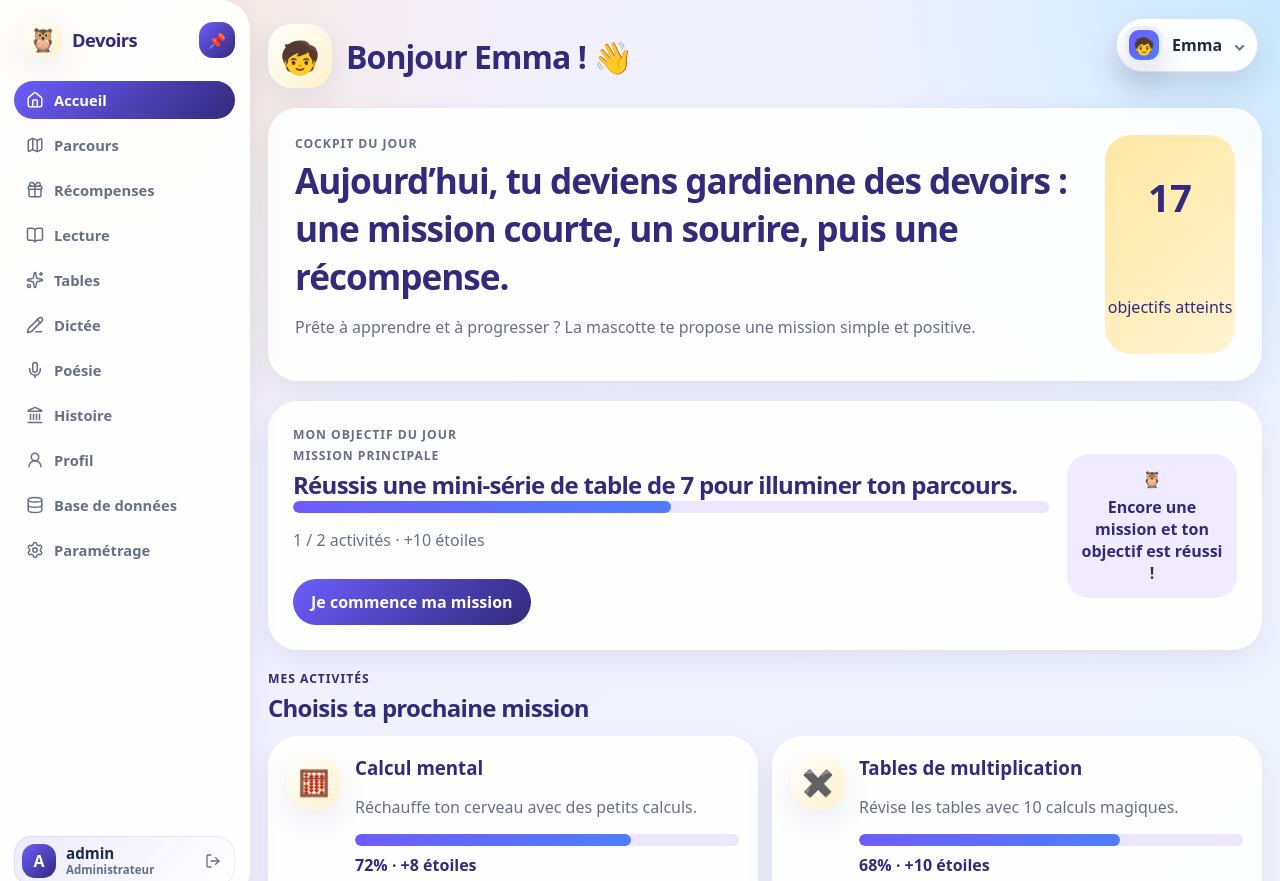
Page Profil famille › permet de changer d’utilisateur depuis n’importe quelle page sans repasser par Profil
Click the button "Lecture" at (124, 235), box [14, 216, 235, 254]
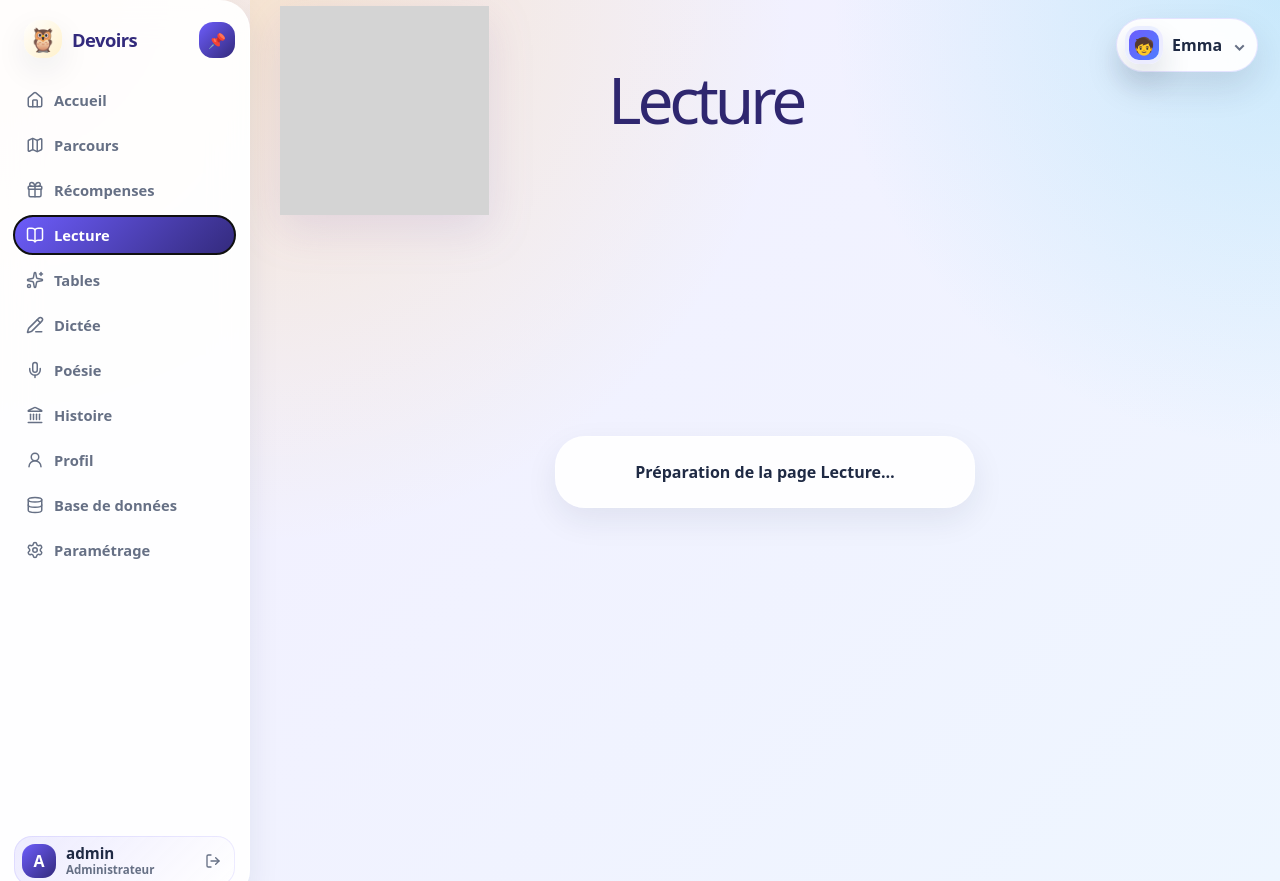
expect the heading "Lecture" is shown: met, box [608, 70, 803, 131]
Click the button with aria-label "changer d’utilisateur actif" at (1187, 45), box [1116, 18, 1258, 72]
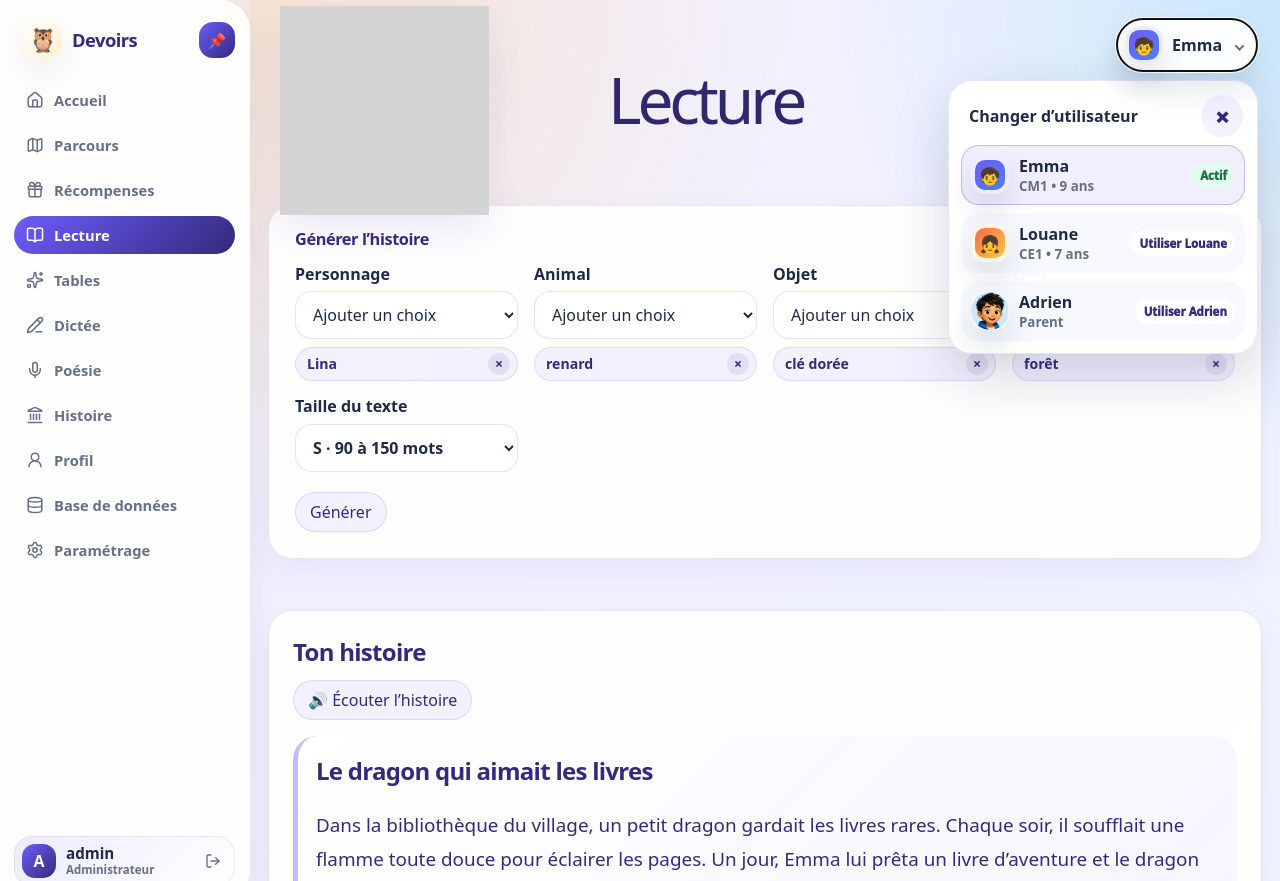
Click the button "👧 Louane CE1 • 7 ans Utiliser Louane" at (990, 243), box [961, 213, 1245, 273]
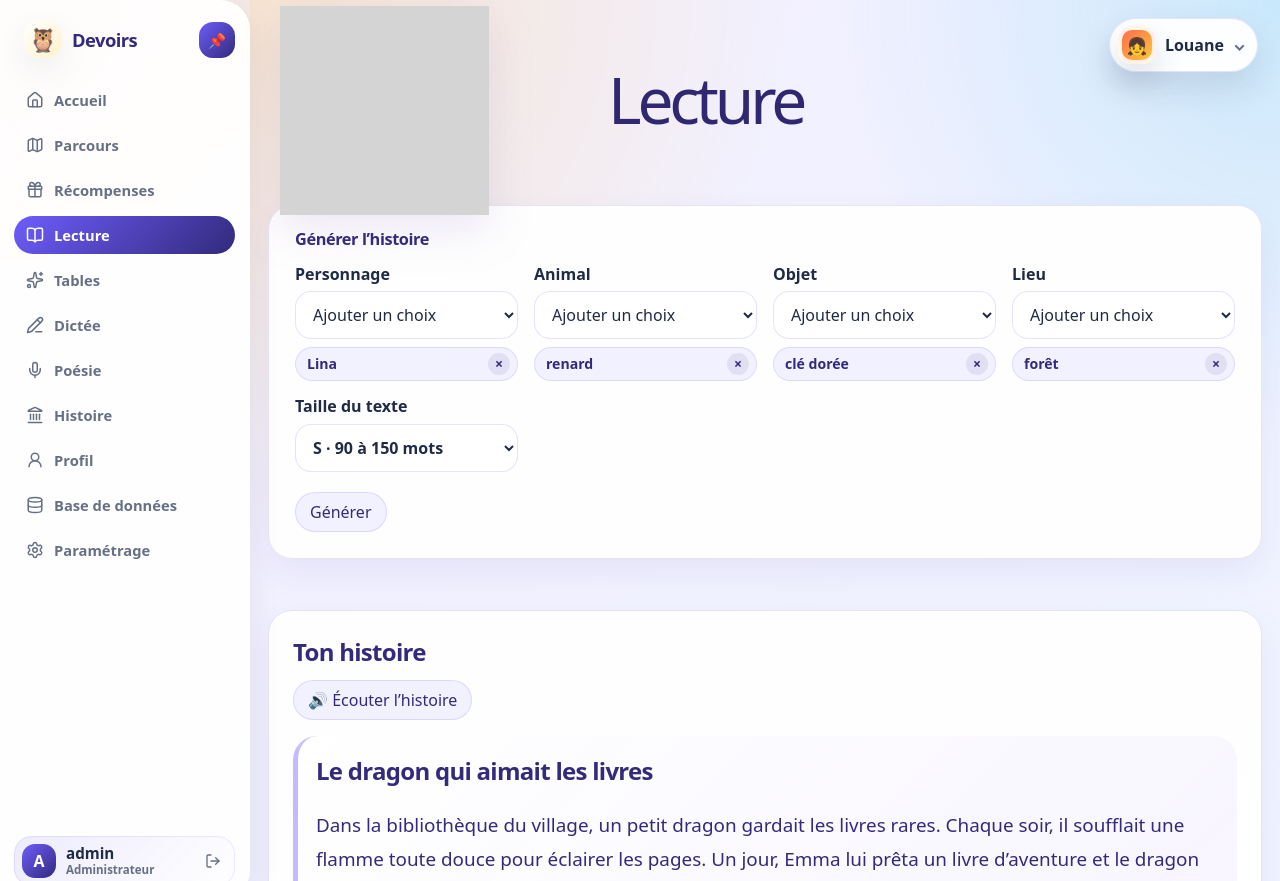
expect the heading "Lecture" is shown: met, box [608, 70, 803, 131]
expect the button with aria-label "changer d’utilisateur actif" shows "Louane": met, box [1109, 18, 1258, 72]
